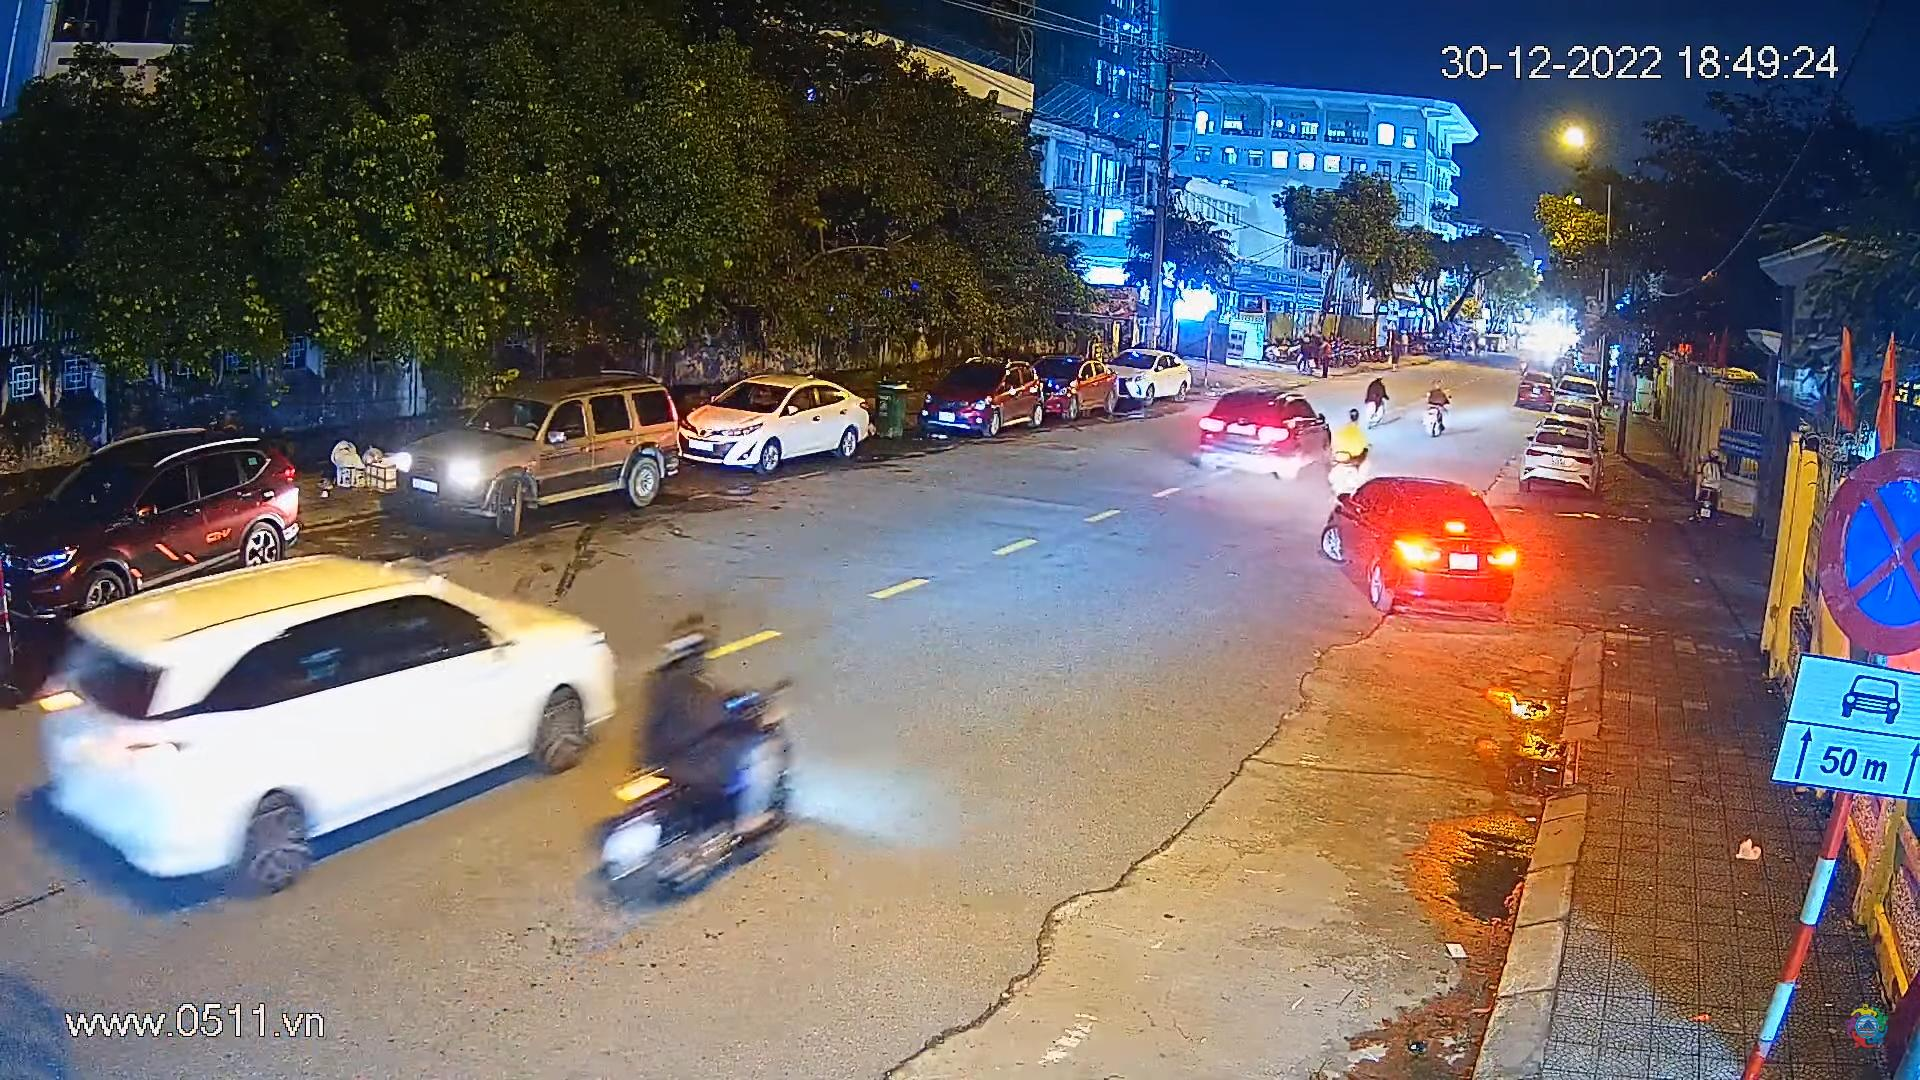car: (38, 560, 618, 895), (0, 422, 306, 640), (393, 372, 683, 542), (1319, 472, 1518, 625), (686, 371, 878, 477), (1196, 385, 1331, 485), (916, 355, 1046, 444), (1516, 418, 1601, 498), (1046, 349, 1121, 422), (1116, 345, 1193, 407), (1553, 373, 1605, 413), (1514, 365, 1555, 410)
motorcycle: (599, 615, 793, 907), (1325, 405, 1374, 496), (1691, 446, 1729, 525), (1357, 371, 1393, 431), (1423, 377, 1455, 438), (1296, 334, 1316, 377)
